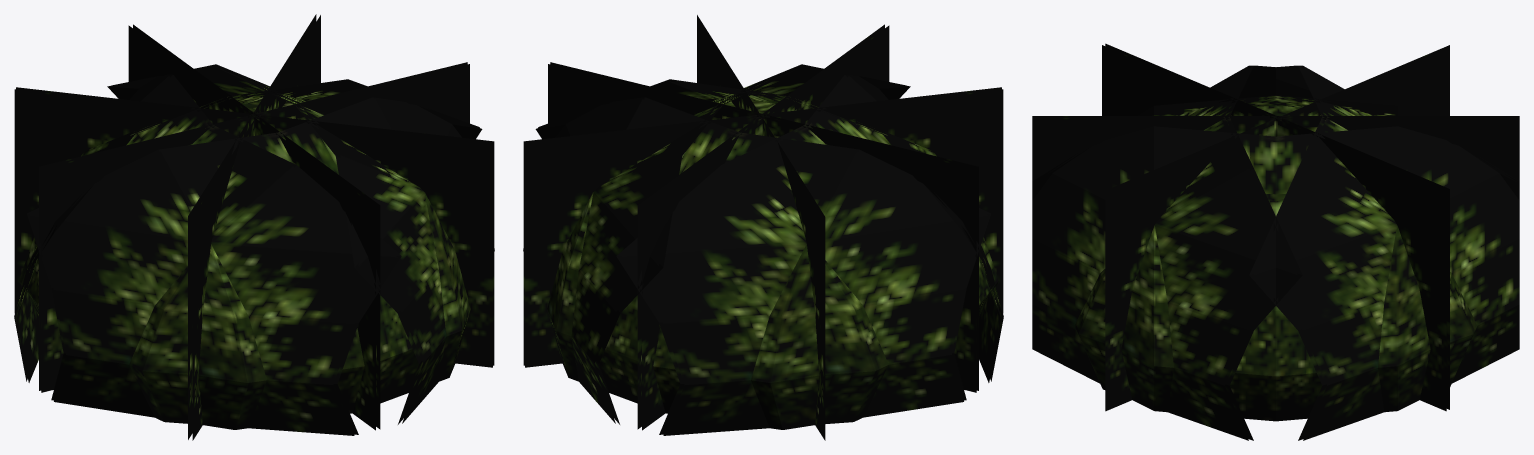
Rendered from bush06.gltf.
3 views of the same model, side by side, from view 1: azimuth 30°, elevation 25°; view 2: azimuth 150°, elevation 25°; view 3: azimuth 270°, elevation 25° (orthographic).
Visible parts, largest first — view 1: bush6; view 2: bush6; view 3: bush6.
Boxes of the visible parts, x1,y1,x2,y2 form: bush6: (14,14,494,440); bush6: (523,15,1003,440); bush6: (1032,43,1519,440).
Bounding box in the file's own units: 2 × 1 × 2.
Materials: 1 (1 with a texture image).
